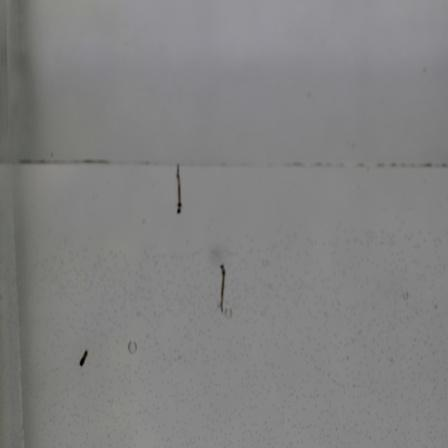Jentik-Nyamuk: (170, 163, 191, 218), (216, 263, 228, 312), (74, 347, 95, 369)
